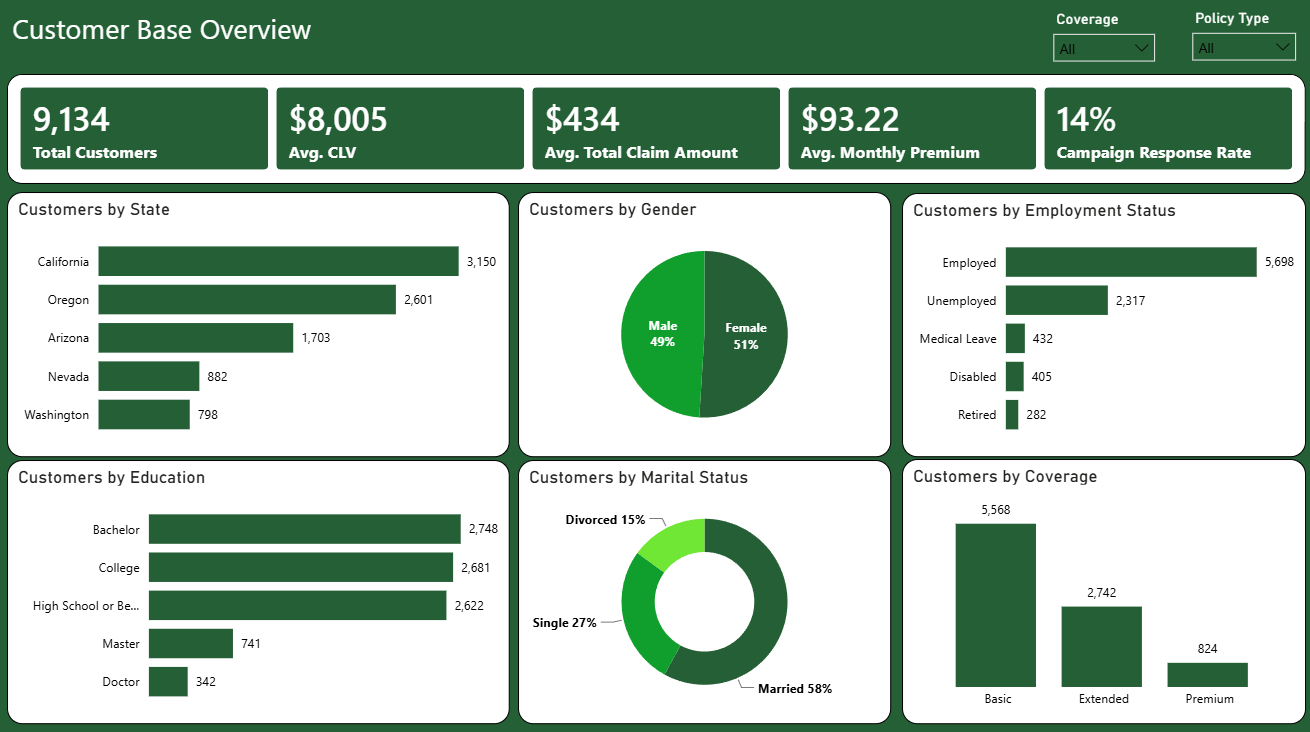

This screenshot's page, from the dashboard's own definition file:
{"tool":"powerbi","page":{"name":"Customer Demographics & Value","canvas":[1280,720],"ordinal":0},"visuals":[{"type":"cardVisual","fields":{"Data":["KPI.Total Customers","KPI.Average. CLV","KPI.Avg. Total Claim Amount","KPI.Avg. Monthly Premium","KPI.Response Rate"]},"box":[8.8,76.8,1263.5,107],"z":0},{"type":"clusteredBarChart","title":"Customers by State","fields":{"Category":["Policy_Data.State"],"Y":["KPI.Total Customers"]},"box":[8.8,191.6,489.2,257.8],"z":1},{"type":"clusteredBarChart","title":"Customers by Education","fields":{"Category":["Policy_Data.Education"],"Y":["KPI.Total Customers"]},"box":[8.8,452.3,489.2,256.8],"z":2},{"type":"pieChart","title":"Customers by Gender","fields":{"Category":["Policy_Data.Gender"],"Y":["KPI.Total Customers"]},"box":[505.8,191.6,362.8,257.8],"z":6},{"type":"donutChart","title":"Customers by Marital Status","fields":{"Category":["Policy_Data.Marital Status"],"Y":["KPI.Total Customers"]},"box":[505.8,452.3,362.8,256.8],"z":7},{"type":"clusteredBarChart","title":"Customers by Employment Status","fields":{"Category":["Policy_Data.Employment Status"],"Y":["KPI.Total Customers"]},"box":[879.3,192.6,392.9,256.8],"z":8},{"type":"clusteredColumnChart","title":"Customers by Coverage","fields":{"Category":["Policy_Data.Coverage"],"Y":["KPI.Total Customers"]},"box":[879.3,451.3,392.9,257.8],"z":9},{"type":"textbox","box":[8.8,8.8,318.1,49.6],"z":10},{"type":"slicer","fields":{"Values":["Policy_Data.Coverage"]},"box":[1015.4,8.8,120.6,68.1],"z":11},{"type":"slicer","fields":{"Values":["Policy_Data.Policy Type"]},"box":[1151.6,8.8,120.6,68.1],"z":12}]}

Visuals, with their boxes in screenshot pixels (x1, y1, x2, y2), scaled from the page's 1280x720 canvas onto the 1310x732 screenshot:
cardVisual - KPI.Total Customers x KPI.Average. CLV: x1=9, y1=78, x2=1302, y2=187
"Customers by State" clusteredBarChart: x1=9, y1=195, x2=510, y2=457
"Customers by Education" clusteredBarChart: x1=9, y1=460, x2=510, y2=721
"Customers by Gender" pieChart: x1=518, y1=195, x2=889, y2=457
"Customers by Marital Status" donutChart: x1=518, y1=460, x2=889, y2=721
"Customers by Employment Status" clusteredBarChart: x1=900, y1=196, x2=1302, y2=457
"Customers by Coverage" clusteredColumnChart: x1=900, y1=459, x2=1302, y2=721
textbox: x1=9, y1=9, x2=335, y2=59
slicer - Policy_Data.Coverage: x1=1039, y1=9, x2=1163, y2=78
slicer - Policy_Data.Policy Type: x1=1179, y1=9, x2=1302, y2=78
